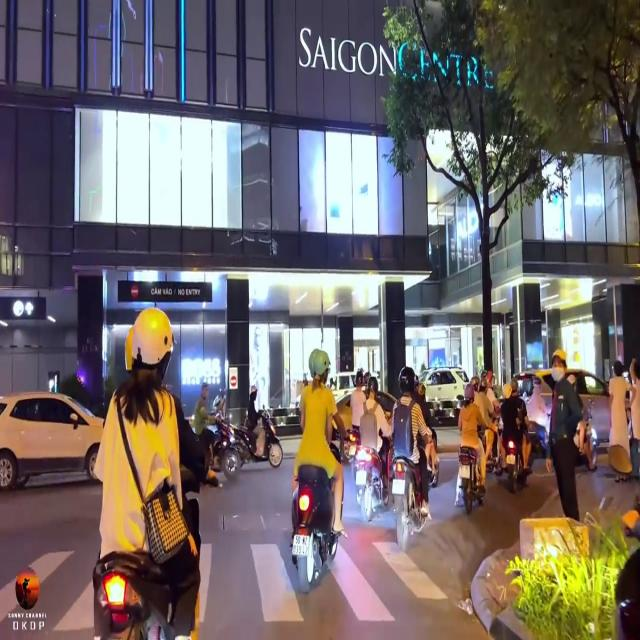bien_trang: (291, 534, 310, 558)
